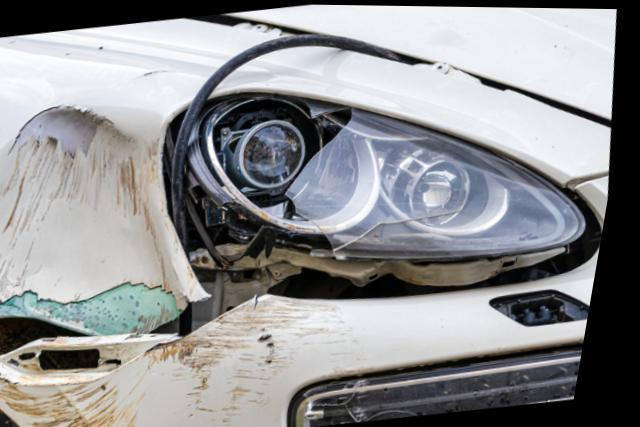dent: (0, 103, 197, 331)
dislocated part: (0, 244, 607, 427)
lamp broken: (172, 94, 598, 271)
scratch: (8, 293, 384, 427)
